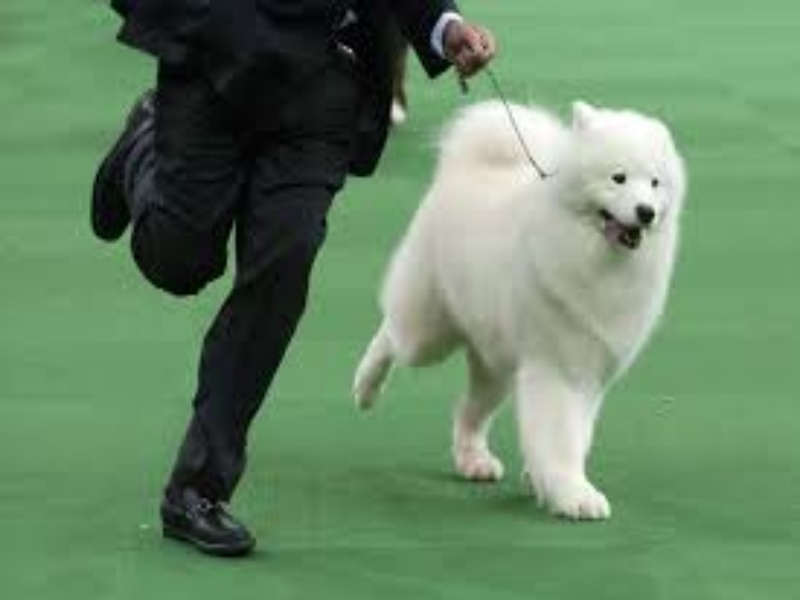dog: (350, 87, 695, 535)
